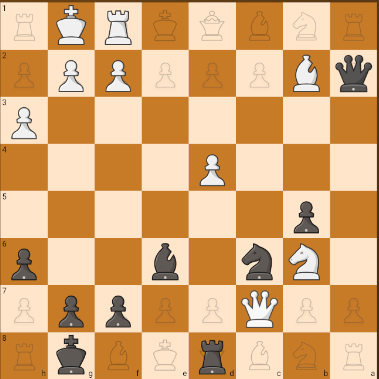bb: (146, 241, 187, 281)
bk: (51, 335, 92, 376)
bn: (239, 240, 279, 284)
bp: (188, 146, 231, 190), (100, 287, 140, 332), (1, 243, 44, 283), (53, 292, 89, 330)
bq: (332, 48, 377, 95)
br: (194, 336, 236, 379), (288, 196, 325, 236)
wb: (288, 53, 326, 95), (285, 242, 324, 282)
wk: (48, 3, 94, 48), (239, 287, 282, 330)
wp: (5, 101, 44, 141), (99, 54, 137, 95), (53, 56, 90, 96)
wr: (98, 3, 138, 48)
